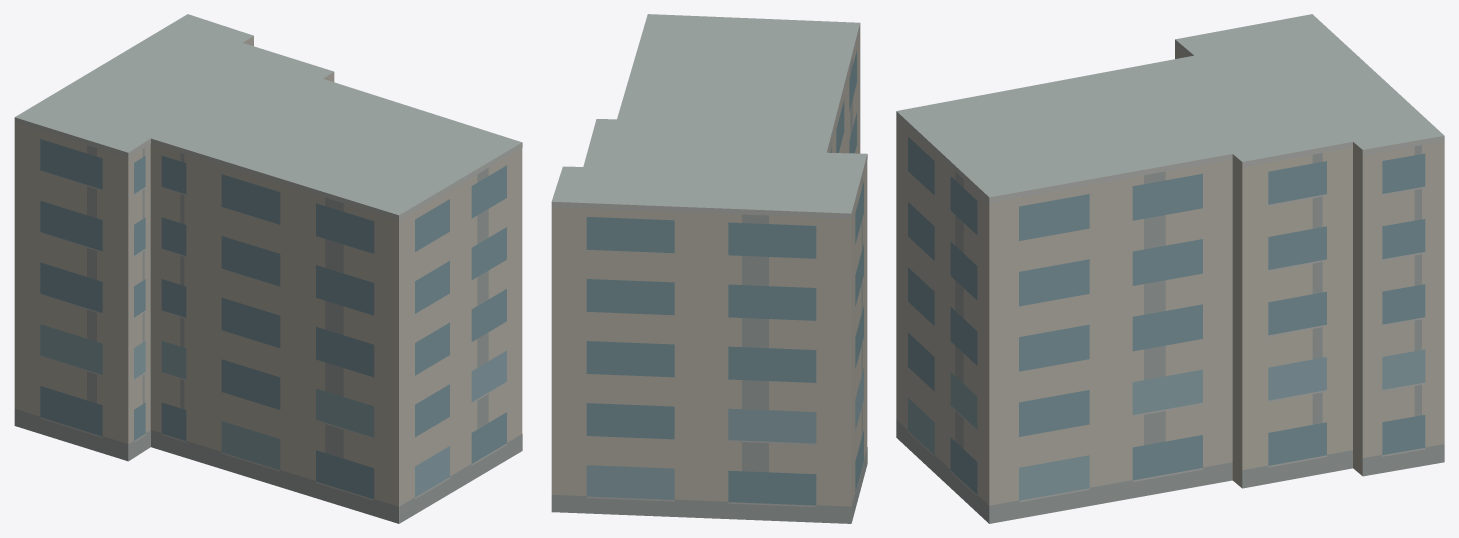
File: survey-upis-32577673.glb
3 renders of one model, left to right at view 1: azimuth 30°, elevation 25°; view 2: azimuth 150°, elevation 25°; view 3: azimuth 270°, elevation 25°, orthographic. The views are drawn at different scales.
Parts seen in each view (by area): view 1: survey-upis-32577673.tmp; view 2: survey-upis-32577673.tmp; view 3: survey-upis-32577673.tmp.
Part boxes in pixels (left/top/right/bottom): survey-upis-32577673.tmp: left=14, top=14, right=522, bottom=523; survey-upis-32577673.tmp: left=551, top=14, right=867, bottom=523; survey-upis-32577673.tmp: left=896, top=14, right=1444, bottom=523.
Bounding box in the file's own units: 17.29 × 14.35 × 21.85.
